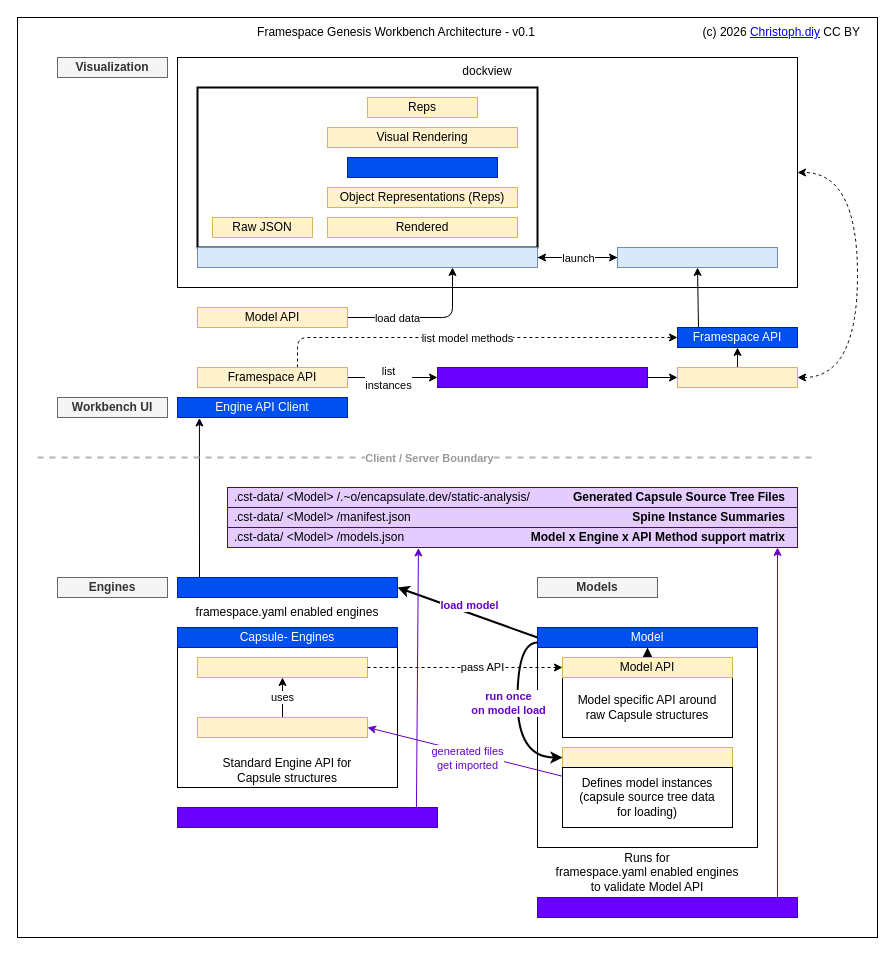
The diagram is 895 pixels wide and 955 high, and some of its shapes have lost their labels. The centre of each missing label's shape, as x and y in pixels:
bun run dev: pixel 307 817
bun run test: pixel 667 907
Engine API: pixel 282 667
Engine API Server: pixel 287 587
Framespace API Panel: pixel 697 257
ImportCapsuleSourceTrees: pixel 282 727
Method Panel: pixel 367 257
Model / Spine Instance Selection: pixel 542 377
Model Examples: pixel 647 757
Visual Model: pixel 422 167
Workspace Context: pixel 737 377
